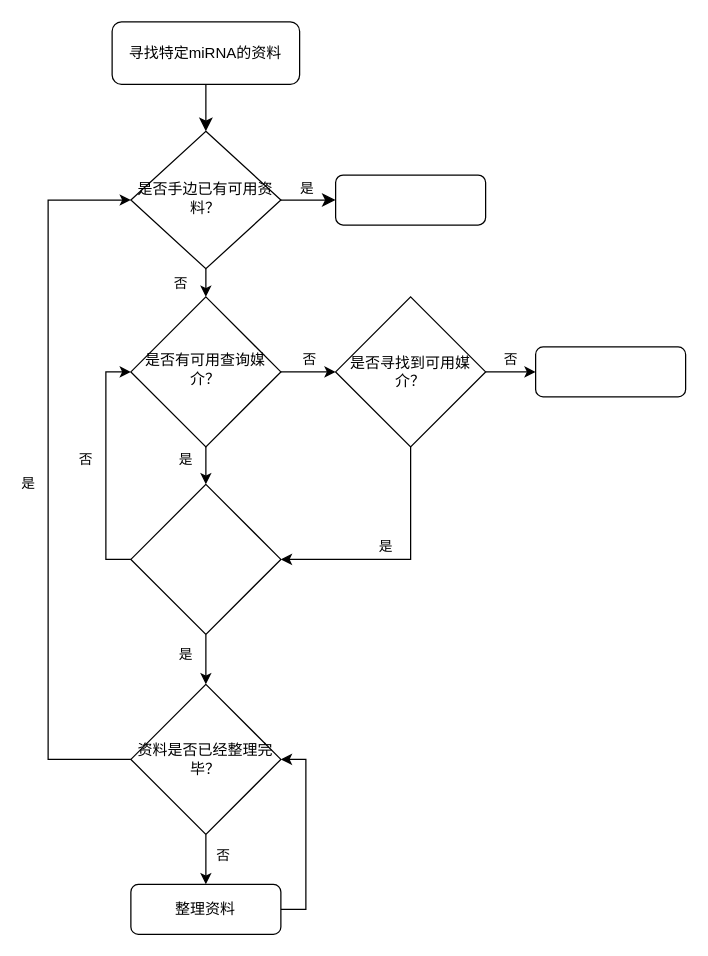
Image size: 708x956. Some labels were removed from this diagram. The shapes that lost their labels are listed below. From the top down, each one's box as (x1, y1, x2, y2) in pixels, then its label:
(334, 174, 486, 225): 使用资料
(534, 346, 686, 397): 更换选题
(130, 483, 281, 634): 是否查询到相关资料？
